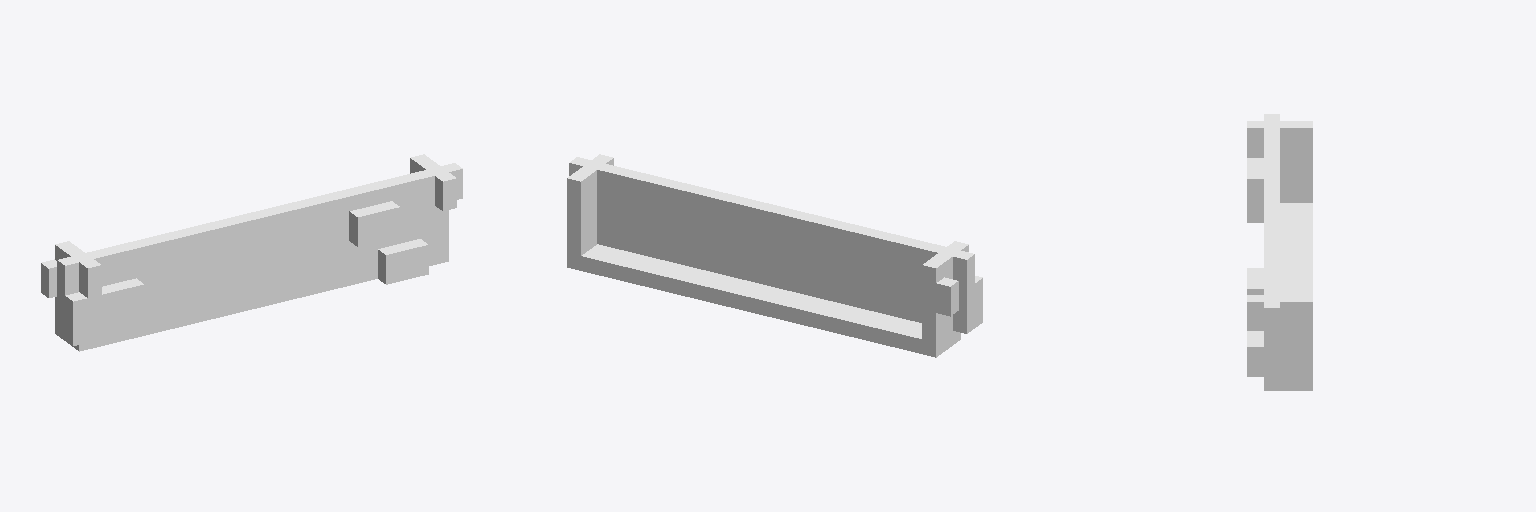
The model's file is SmallBuilding01-7.obj.
3 renders of one model, left to right at view 1: azimuth 30°, elevation 25°; view 2: azimuth 150°, elevation 25°; view 3: azimuth 270°, elevation 25°, orthographic.
Visible parts, largest first — view 1: object 1; view 2: object 1; view 3: object 1.
Boxes of the visible parts, box(x1,y1,x2,y2) form: object 1: box(41, 154, 462, 351); object 1: box(567, 154, 982, 357); object 1: box(1247, 114, 1312, 390).
Bounding box in the file's own units: 2.8 × 0.6 × 0.4.